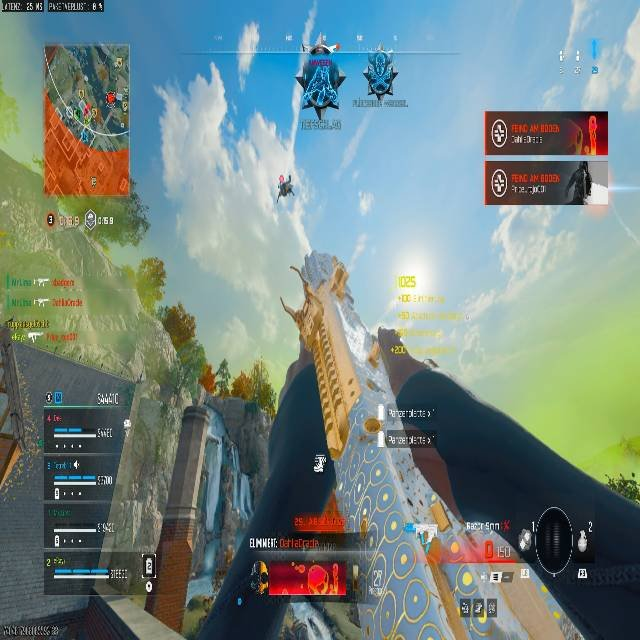head: (374, 54, 388, 69)
player: (271, 603, 344, 640), (362, 54, 398, 99)
